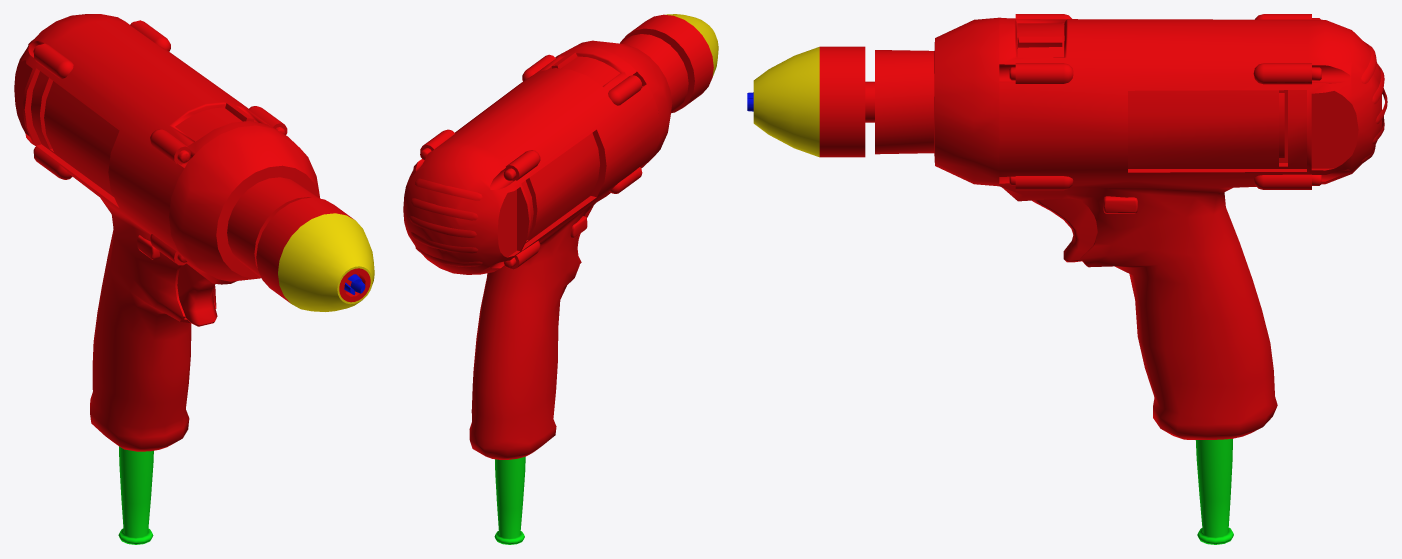
The model's file is electricdrill_v3.fbx.
3 views of the same model, side by side, from view 1: azimuth 30°, elevation 25°; view 2: azimuth 150°, elevation 25°; view 3: azimuth 270°, elevation 25° (orthographic). The views are drawn at different scales.
Parts seen in each view (by area): view 1: ElectricDrillBody, Chuck, ElectricDrillHead, Trigger; view 2: ElectricDrillBody, ElectricDrillHead, Chuck; view 3: ElectricDrillBody, ElectricDrillHead, Chuck, Trigger.
Boxes of the visible parts, <box> form: ElectricDrillBody: <box>14,14,320,544</box>; Chuck: <box>278,213,374,311</box>; ElectricDrillHead: <box>256,197,370,303</box>; Trigger: <box>177,263,217,326</box>; ElectricDrillBody: <box>403,34,688,544</box>; ElectricDrillHead: <box>620,14,713,112</box>; Chuck: <box>665,14,718,76</box>; ElectricDrillBody: <box>875,14,1387,544</box>; ElectricDrillHead: <box>819,46,874,157</box>; Chuck: <box>753,47,819,157</box>; Trigger: <box>1032,198,1097,262</box>.
Size of the model in its own units: 9.51 by 31.74 by 35.93.
